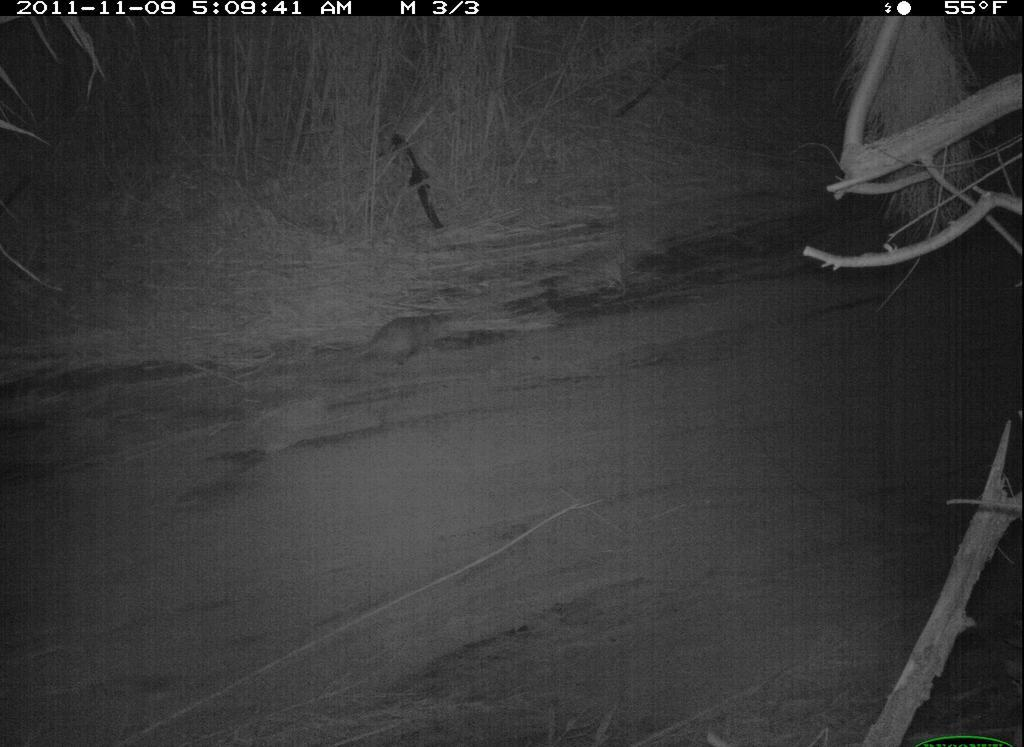opossum: (345, 299, 464, 374)
